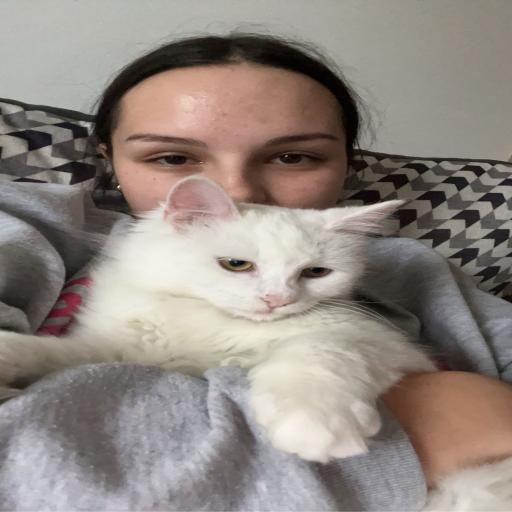marija: (112, 61, 353, 220)
